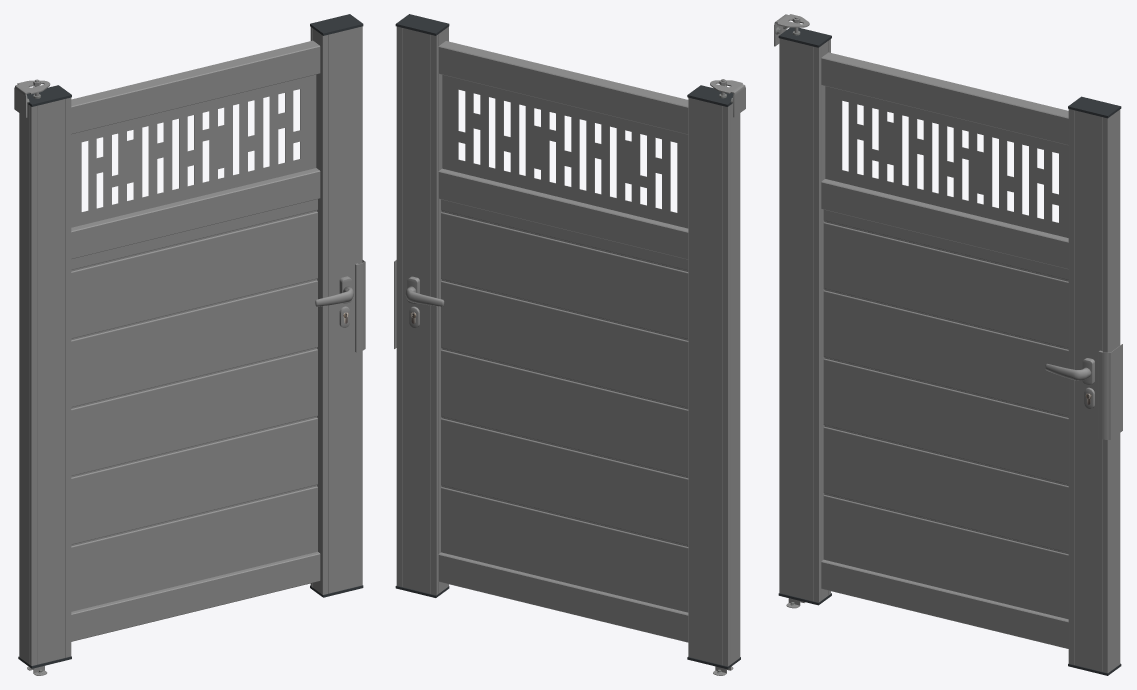
3 views of the same model, side by side, from view 1: azimuth 30°, elevation 25°; view 2: azimuth 150°, elevation 25°; view 3: azimuth 330°, elevation 25° (orthographic).
Parts seen in each view (by area): view 1: Shape107412643, Shape107412644, code, Shape107412160, Shape107412161, Shape107412157, Shape107412162, Shape107412159, Shape107412167, Shape107411709, Shape107412166, Shape107412156 (+4 smaller); view 2: Shape107412643, Shape107412644, code, Shape107412160, Shape107412161, Shape107412157, Shape107412162, Shape107412159, Shape107412167, Shape107411709, Shape107412166, Shape107412156 (+3 smaller); view 3: Shape107412644, Shape107412643, code, Shape107412160, Shape107412161, Shape107412157, Shape107412162, Shape107412159, Shape107412167, Shape107411709, Shape107412166, Shape107412156 (+3 smaller).
Boxes of the visible parts, box(x1,y1,x2,y2) form: Shape107412643: box(19, 97, 71, 665); Shape107412644: box(310, 26, 362, 594); code: box(71, 74, 316, 227); Shape107412160: box(71, 416, 317, 544); Shape107412161: box(71, 347, 317, 475); Shape107412157: box(71, 210, 317, 338); Shape107412162: box(71, 279, 317, 407); Shape107412159: box(71, 485, 317, 611); Shape107412167: box(71, 40, 320, 134); Shape107411709: box(71, 168, 320, 258); Shape107412166: box(71, 551, 320, 641); Shape107412156: box(71, 199, 317, 269); Shape107412643: box(688, 97, 740, 666); Shape107412644: box(396, 26, 448, 595); code: box(442, 75, 688, 228); Shape107412160: box(441, 417, 688, 545); Shape107412161: box(441, 348, 688, 476); Shape107412157: box(441, 210, 688, 339); Shape107412162: box(441, 279, 688, 407); Shape107412159: box(441, 485, 688, 612); Shape107412167: box(438, 41, 688, 134); Shape107411709: box(438, 168, 688, 259); Shape107412166: box(438, 552, 688, 642); Shape107412156: box(441, 199, 688, 270); Shape107412644: box(1068, 109, 1120, 672); Shape107412643: box(779, 38, 830, 602); code: box(825, 86, 1068, 237); Shape107412160: box(823, 425, 1068, 552); Shape107412161: box(823, 357, 1068, 484); Shape107412157: box(823, 220, 1068, 348); Shape107412162: box(823, 289, 1068, 416); Shape107412159: box(823, 493, 1068, 619); Shape107412167: box(821, 52, 1068, 145); Shape107411709: box(821, 179, 1068, 269); Shape107412166: box(821, 559, 1068, 648); Shape107412156: box(823, 209, 1068, 279).
Bounding box in the file's own units: 1014 × 1688 × 171.
8 materials, 4 textured.
